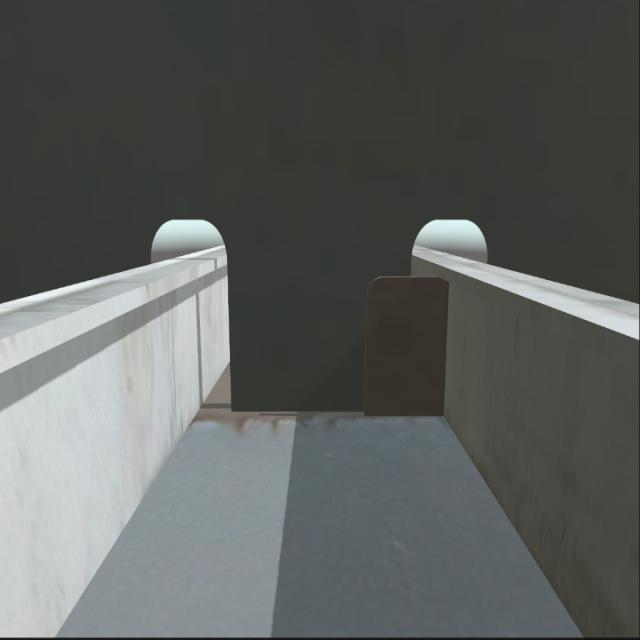fillet_yong_jeop_jang: (230, 391, 452, 422)
longi_yong_jeop_jang: (434, 271, 456, 409)
plate_CP05: (358, 276, 452, 416)
